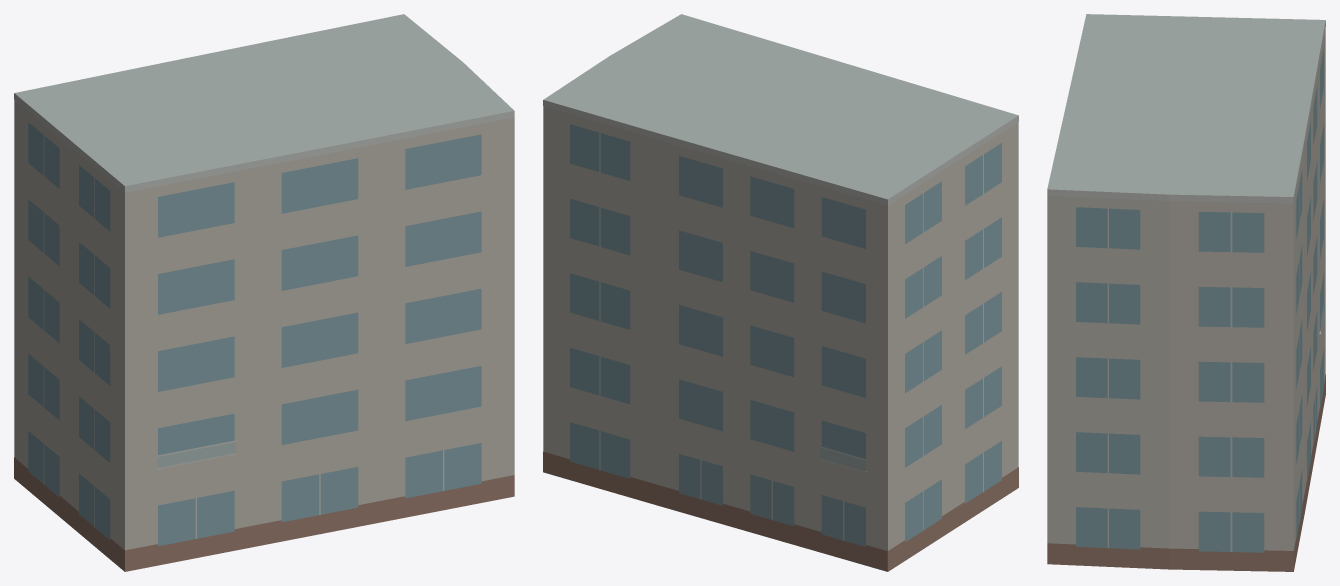
The model's file is survey-upis-32761283.glb.
3 renders of one model, left to right at view 1: azimuth 30°, elevation 25°; view 2: azimuth 150°, elevation 25°; view 3: azimuth 270°, elevation 25°, orthographic. The views are drawn at different scales.
Visible parts, largest first — view 1: survey-upis-32761283.tmp; view 2: survey-upis-32761283.tmp; view 3: survey-upis-32761283.tmp.
Part boxes in pixels (x1,y1,x2,y2): survey-upis-32761283.tmp: [14, 14, 514, 571]; survey-upis-32761283.tmp: [543, 14, 1018, 571]; survey-upis-32761283.tmp: [1047, 14, 1325, 571].
Size of the model in its own units: 14.98 by 14.3 by 9.64.
